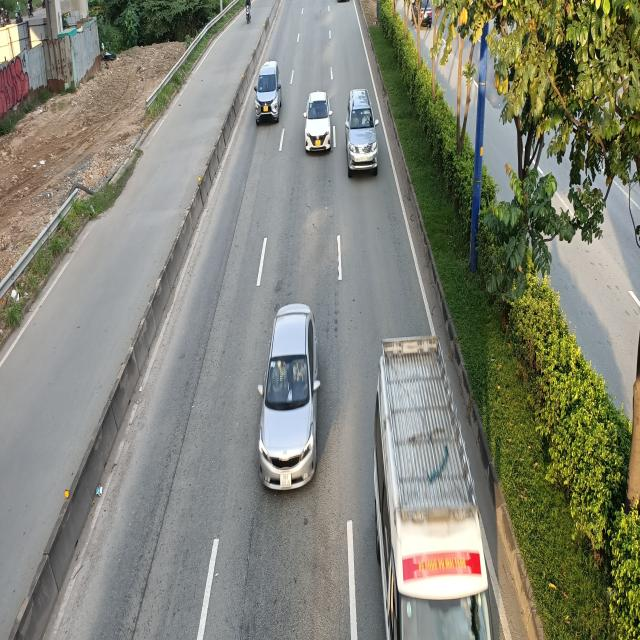car: (257, 302, 321, 487), (345, 90, 379, 178), (304, 91, 334, 153), (256, 60, 284, 124)
van: (371, 334, 498, 639)
